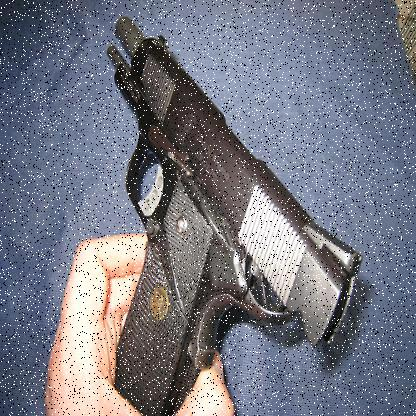pistol: (104, 17, 362, 411)
